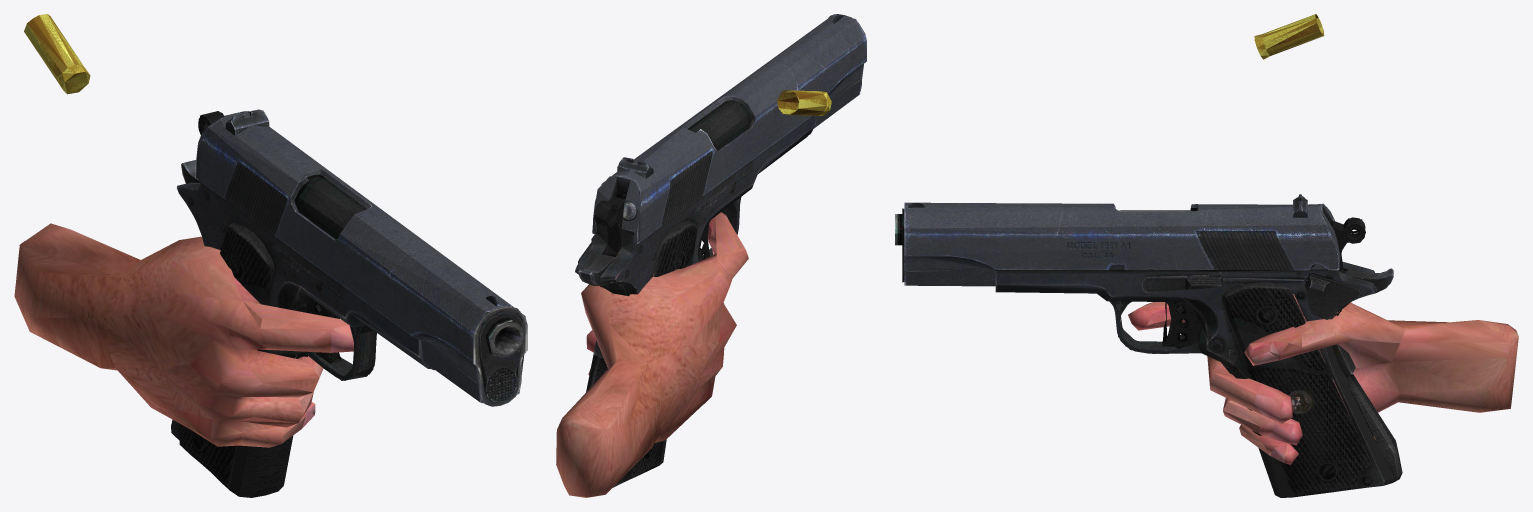
File: Gun_000010.obj
The picture shows the model from 3 angles, left to right: view 1: azimuth 30°, elevation 25°; view 2: azimuth 150°, elevation 25°; view 3: azimuth 270°, elevation 25°; orthographic projection. The views are drawn at different scales.
Visible parts, largest first — view 1: ZBrushPolyMesh3D, Slide, Mesh_0008, BulletShell; view 2: ZBrushPolyMesh3D, Slide, Mesh_0008, BulletShell, Hammer; view 3: Mesh_0008, Slide, ZBrushPolyMesh3D, BulletShell, Trigger, Hammer.
Part boxes in pixels (x1,y1,x2,y2): ZBrushPolyMesh3D: (14,223,353,447); Slide: (195,109,527,406); Mesh_0008: (171,160,524,497); BulletShell: (24,14,90,94); ZBrushPolyMesh3D: (556,212,748,497); Slide: (592,14,866,244); Mesh_0008: (575,100,815,487); BulletShell: (777,90,831,115); Hammer: (594,196,625,264); Mesh_0008: (895,210,1402,497); Slide: (902,194,1340,286); ZBrushPolyMesh3D: (1128,294,1518,464); BulletShell: (1254,14,1324,59); Trigger: (1162,296,1201,346); Hammer: (1330,217,1365,273).
Size of the model in its own units: 1.42 by 2.44 by 3.46.
